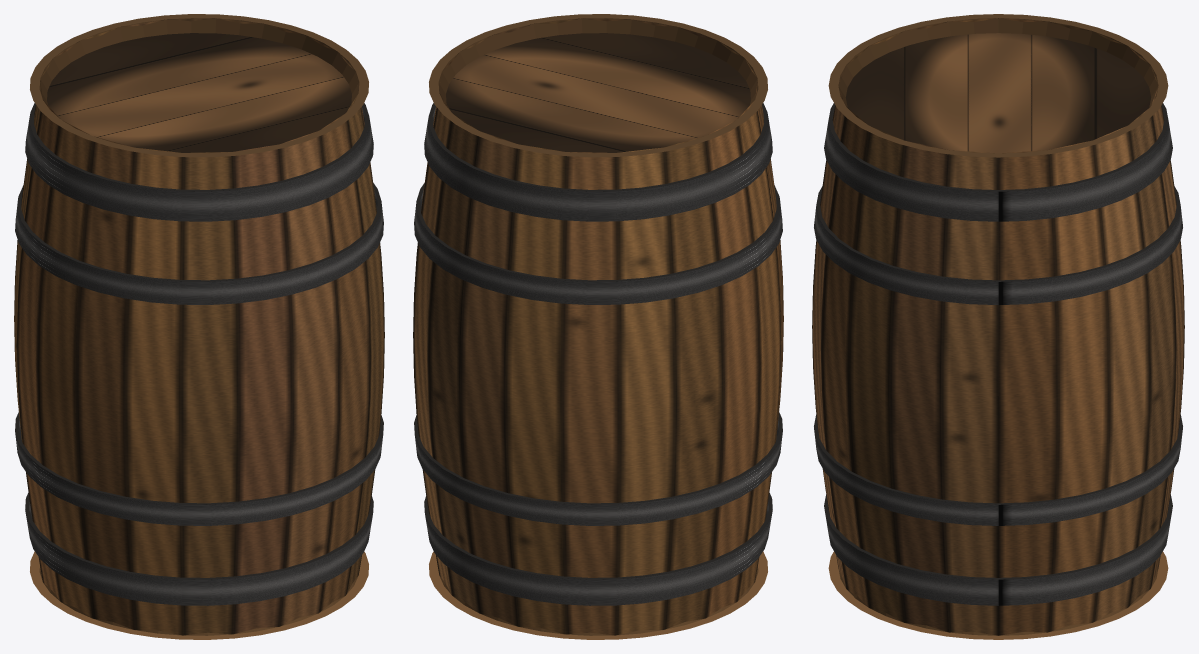
File: Oak_Barrel.obj
The picture shows the model from 3 angles, left to right: view 1: azimuth 30°, elevation 25°; view 2: azimuth 150°, elevation 25°; view 3: azimuth 270°, elevation 25°; orthographic projection.
Visible parts, largest first — view 1: barrel; view 2: barrel; view 3: barrel.
Part boxes in pixels (box(x1,y1,x2,y2)): barrel: box(14, 14, 384, 639); barrel: box(413, 14, 783, 639); barrel: box(812, 14, 1184, 639).
Bounding box in the file's own units: 45.64 × 65.18 × 45.64.
Materials: 1 (1 with a texture image).
